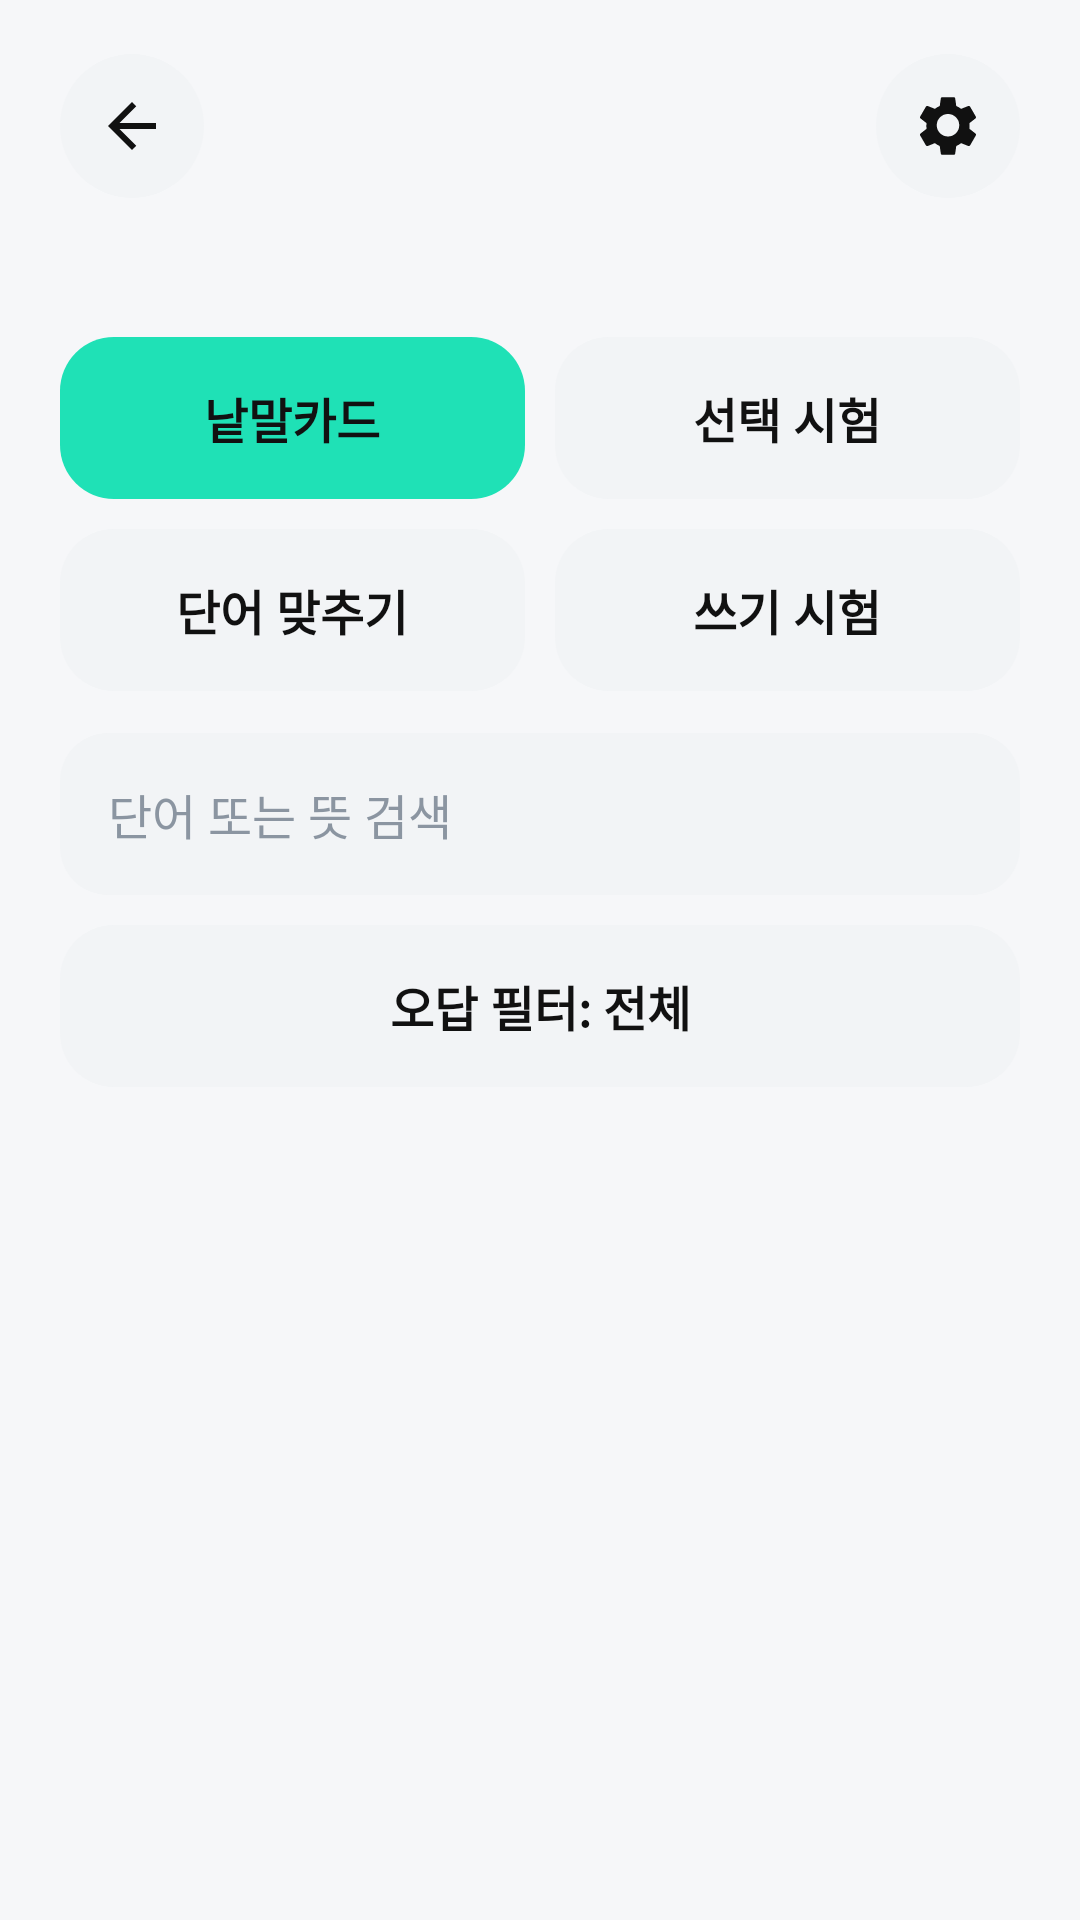

Icon bounding boxes for this 1080*1920 phone screenshot, format box(x1, y1, x2, y2):
단어장 설정: box(920, 97, 976, 155)
뒤로 가기: box(108, 102, 156, 150)
